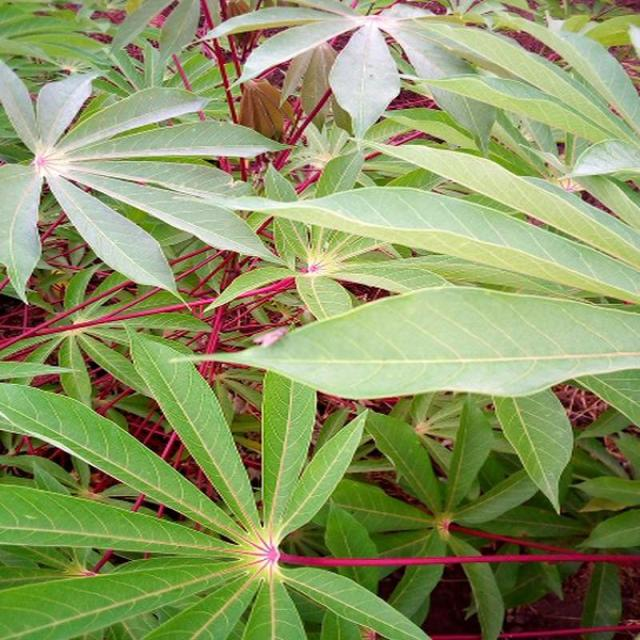cassava leaf: (0, 59, 292, 308), (182, 282, 640, 403)
